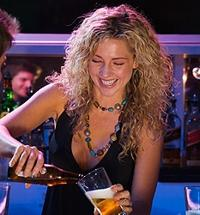person: (1, 6, 174, 215)
